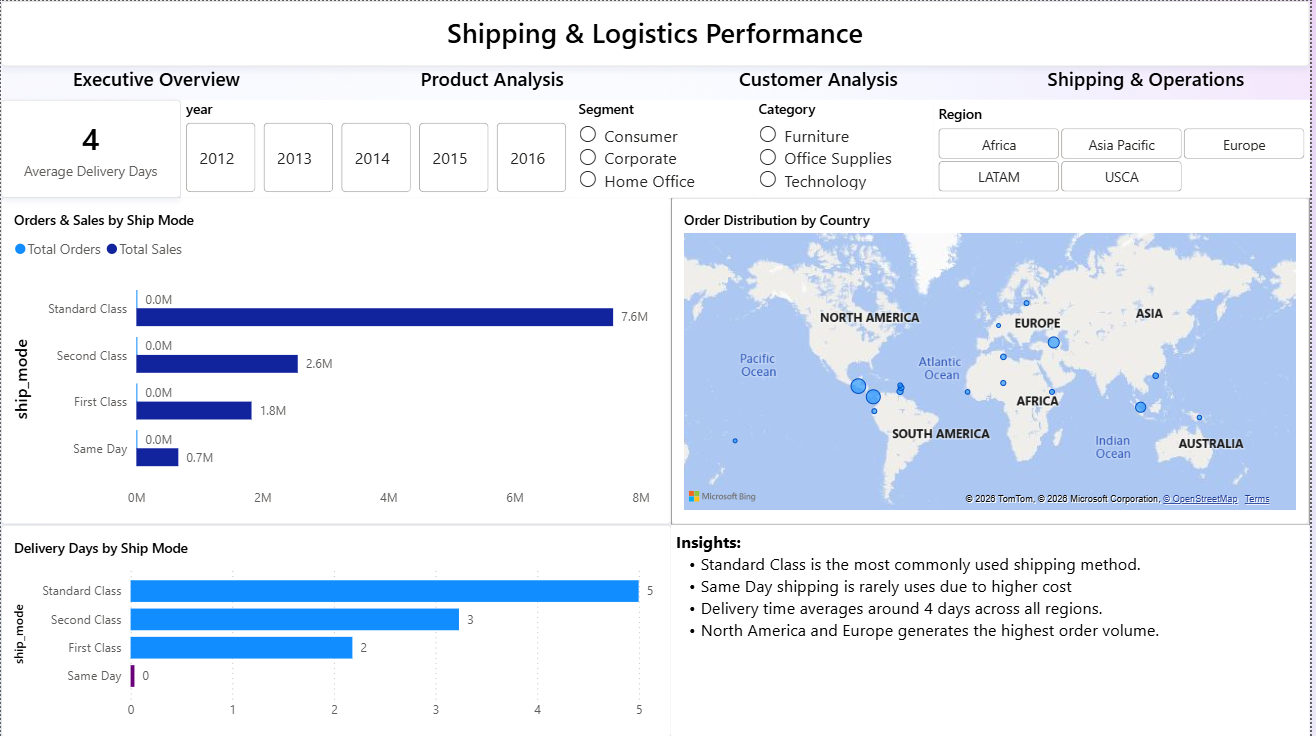

This screenshot's page, from the dashboard's own definition file:
{"tool":"powerbi","page":{"name":"Shipping & Operations","canvas":[1280,720],"ordinal":3},"visuals":[{"type":"clusteredBarChart","title":"Orders & Sales by Ship Mode","fields":{"Category":["dim_ship_mode.ship_mode"],"Y":["BaseMeasures.Total Orders","BaseMeasures.Total Sales"]},"box":[0,192,656,320],"z":0},{"type":"card","fields":{"Values":["BaseMeasures.Average Delivery Days"]},"box":[0,96,176,96],"z":1000},{"type":"map","title":"Order Distribution by Country","fields":{"Category":["dim_geo.market Hierarchy.market","dim_geo.market Hierarchy.region","dim_geo.market Hierarchy.country","dim_geo.market Hierarchy.state","dim_geo.market Hierarchy.city"],"Size":["BaseMeasures.Total Orders"]},"box":[656,192,624,320],"z":2000},{"type":"barChart","title":"Delivery Days by Ship Mode","fields":{"Category":["dim_ship_mode.ship_mode"],"Y":["BaseMeasures.Average Delivery Days"]},"box":[0,512,656,208],"z":3000},{"type":"card","fields":{"Values":["BaseMeasures.Shipping Title"]},"box":[0,0,1280,64],"z":4000},{"type":"advancedSlicerVisual","fields":{"Values":["dim_date.year Hierarchy.year"]},"box":[176,96,384,96],"z":5000},{"type":"listSlicer","title":"Segment","fields":{"Values":["dim_customer.segment"]},"box":[560,96,176,96],"z":6000},{"type":"listSlicer","title":"Category","fields":{"Values":["dim_product.category"]},"box":[736,96,176,96],"z":7000},{"type":"advancedSlicerVisual","title":"Region","fields":{"Values":["dim_geo.region"]},"box":[912,96,368,96],"z":8000},{"type":"textbox","box":[656,512,624,208],"z":9000},{"type":"actionButton","title":"Customer Analysis","box":[640,64,320,32],"z":9001},{"type":"actionButton","title":"Shipping & Operations","box":[960,64,320,32],"z":9002},{"type":"actionButton","title":"Executive Overview","box":[0,64,304,32],"z":9003},{"type":"actionButton","title":"Product Analysis","box":[320,64,320,32],"z":9004}]}

Visuals, with their boxes in screenshot pixels (x1, y1, x2, y2), scaled from the page's 1280x720 canvas onto the 1316x736 screenshot:
"Orders & Sales by Ship Mode" clusteredBarChart: bbox(0, 196, 674, 523)
card - BaseMeasures.Average Delivery Days: bbox(0, 98, 181, 196)
"Order Distribution by Country" map: bbox(674, 196, 1315, 523)
"Delivery Days by Ship Mode" barChart: bbox(0, 523, 674, 735)
card - BaseMeasures.Shipping Title: bbox(0, 0, 1315, 65)
advancedSlicerVisual - dim_date.year Hierarchy.year: bbox(181, 98, 576, 196)
"Segment" listSlicer: bbox(576, 98, 757, 196)
"Category" listSlicer: bbox(757, 98, 938, 196)
"Region" advancedSlicerVisual: bbox(938, 98, 1315, 196)
textbox: bbox(674, 523, 1315, 735)
"Customer Analysis" actionButton: bbox(658, 65, 987, 98)
"Shipping & Operations" actionButton: bbox(987, 65, 1315, 98)
"Executive Overview" actionButton: bbox(0, 65, 313, 98)
"Product Analysis" actionButton: bbox(329, 65, 658, 98)
